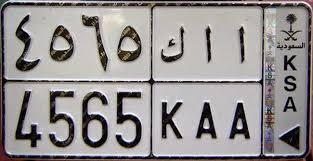4: (13, 14, 43, 149)
5: (115, 25, 143, 149), (48, 24, 75, 148)
6: (80, 14, 109, 150)
A: (195, 24, 217, 141), (229, 26, 251, 141)
K: (160, 25, 185, 141)
